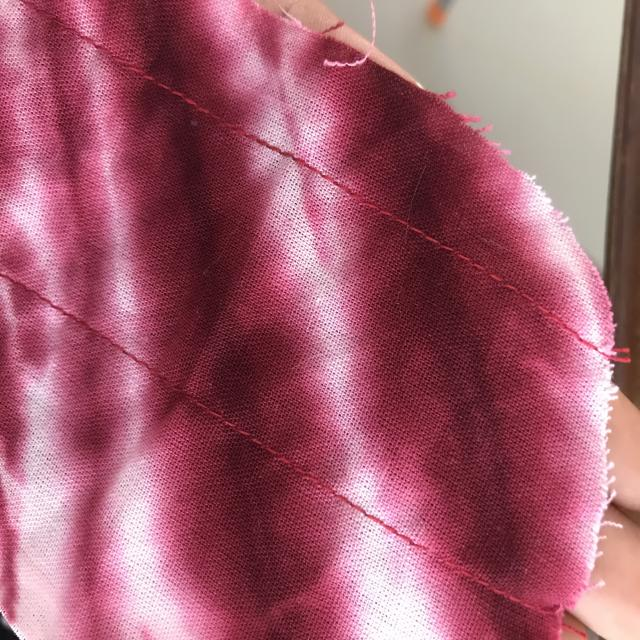good: (208, 420, 291, 464)
